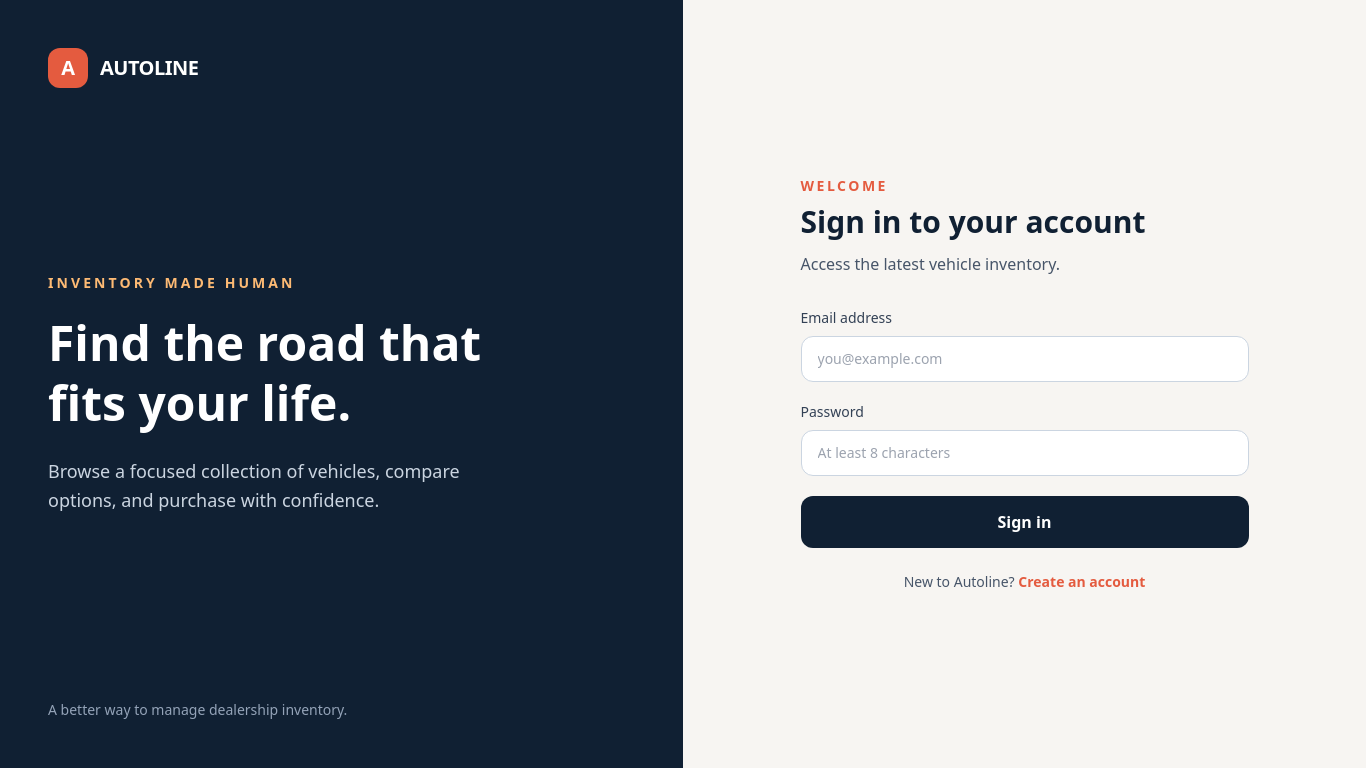
Test: Autoline dashboard › allows a visitor to switch from sign in to registration
This screenshot has width=1366, height=768.
Click the button "Create an account" at (1082, 582), box [1018,572,1145,592]
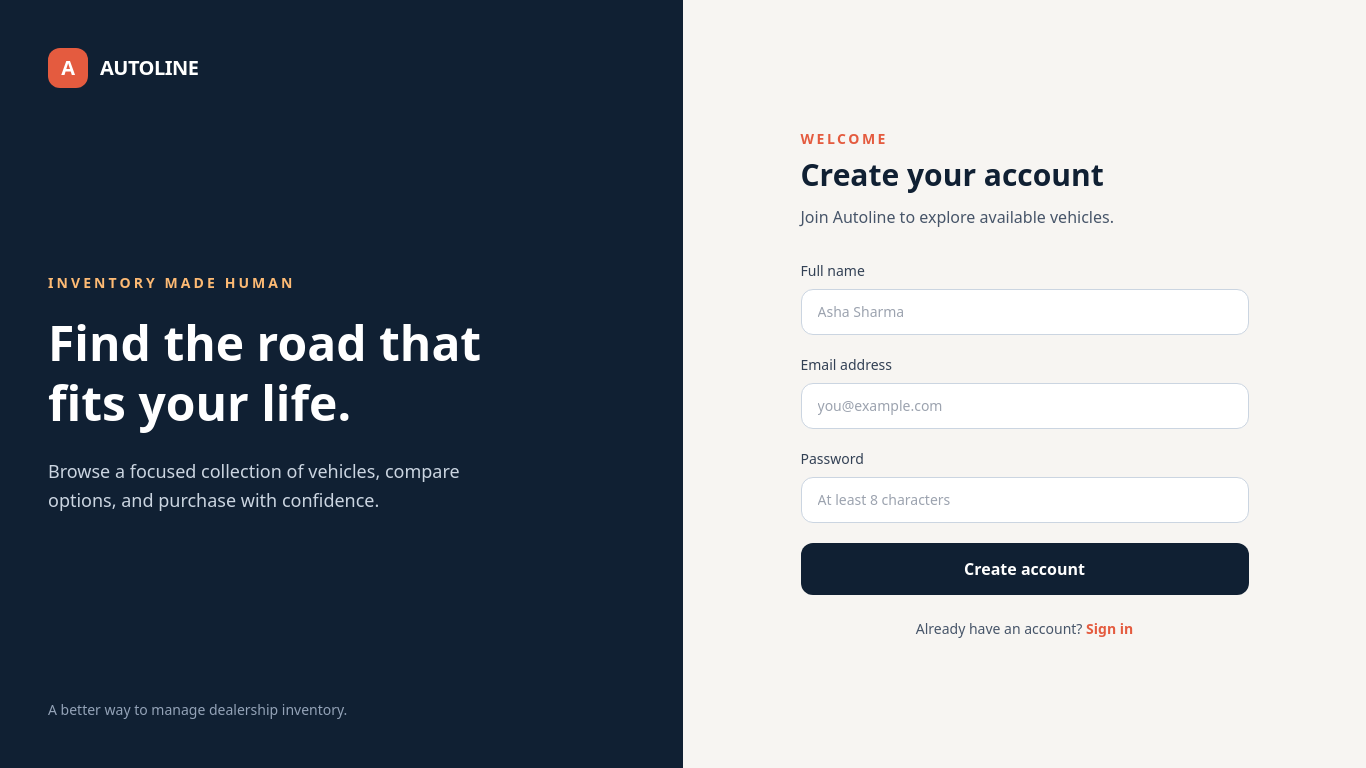
Now the heading "Create your account" is shown, box [800,154,1104,195]
Now the field labelled "Full name" is shown, box [800,289,1248,335]
